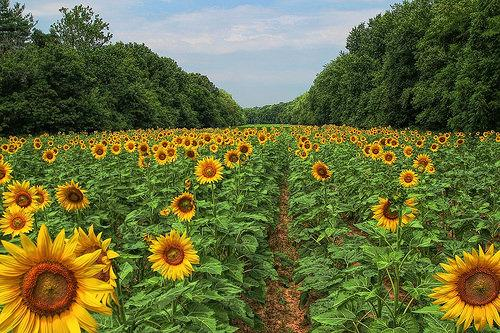sunflower: (0, 226, 113, 333), (435, 243, 500, 333), (148, 230, 200, 280), (373, 195, 417, 229), (0, 205, 35, 236), (4, 180, 38, 211), (56, 182, 89, 211), (194, 157, 223, 183), (172, 193, 197, 220), (414, 153, 434, 172), (224, 150, 243, 169), (313, 161, 331, 181), (0, 163, 15, 186), (400, 169, 418, 186), (92, 143, 109, 158), (237, 141, 252, 157), (154, 149, 169, 164), (368, 143, 383, 157), (42, 148, 57, 162), (137, 157, 153, 168), (300, 139, 313, 151), (382, 151, 395, 163), (124, 142, 136, 153), (404, 144, 413, 156)
